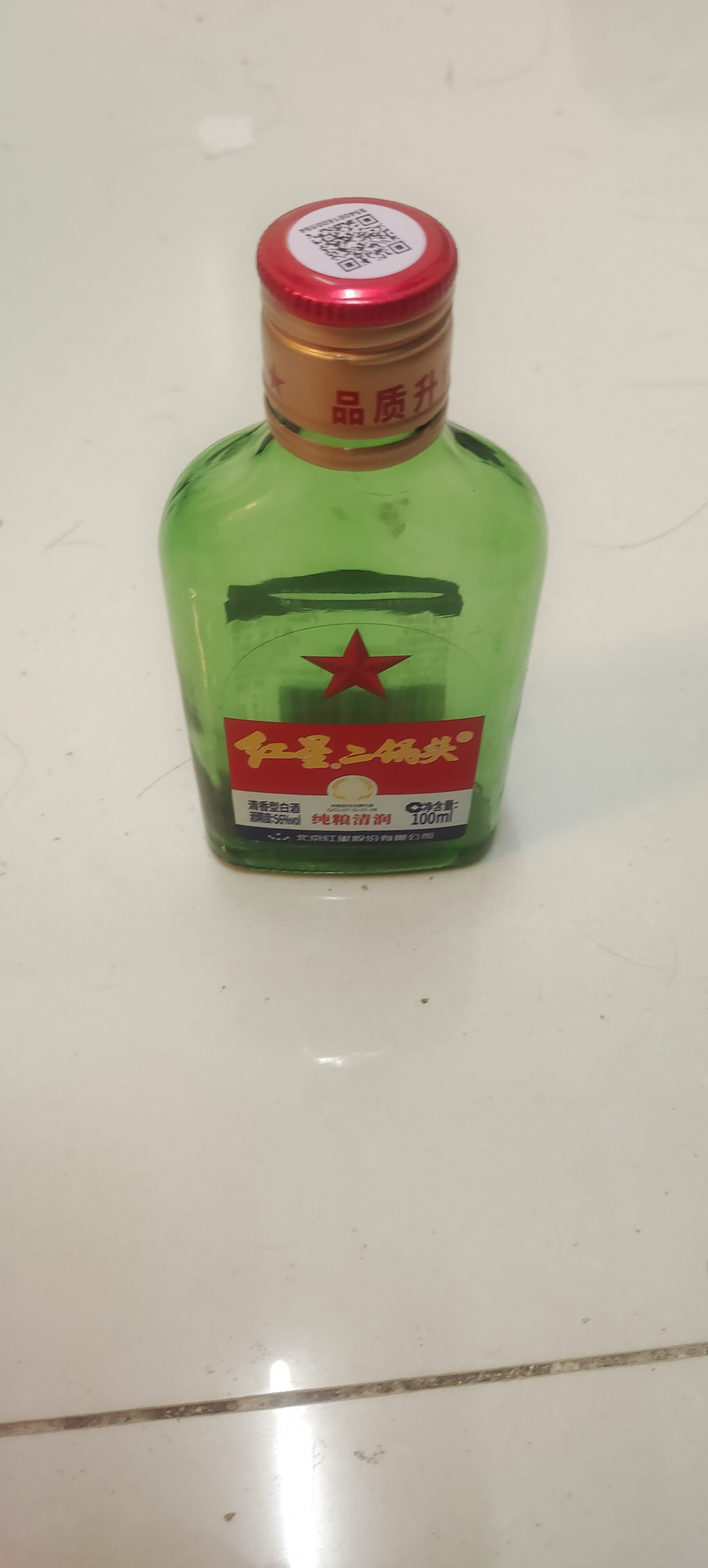oreo: (150, 169, 596, 898)
redbull: (86, 71, 661, 1035)
